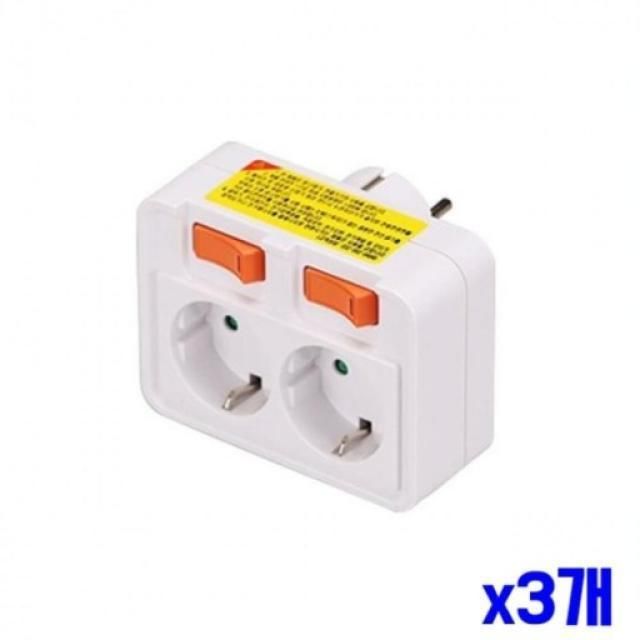typeb: (115, 127, 491, 507)
